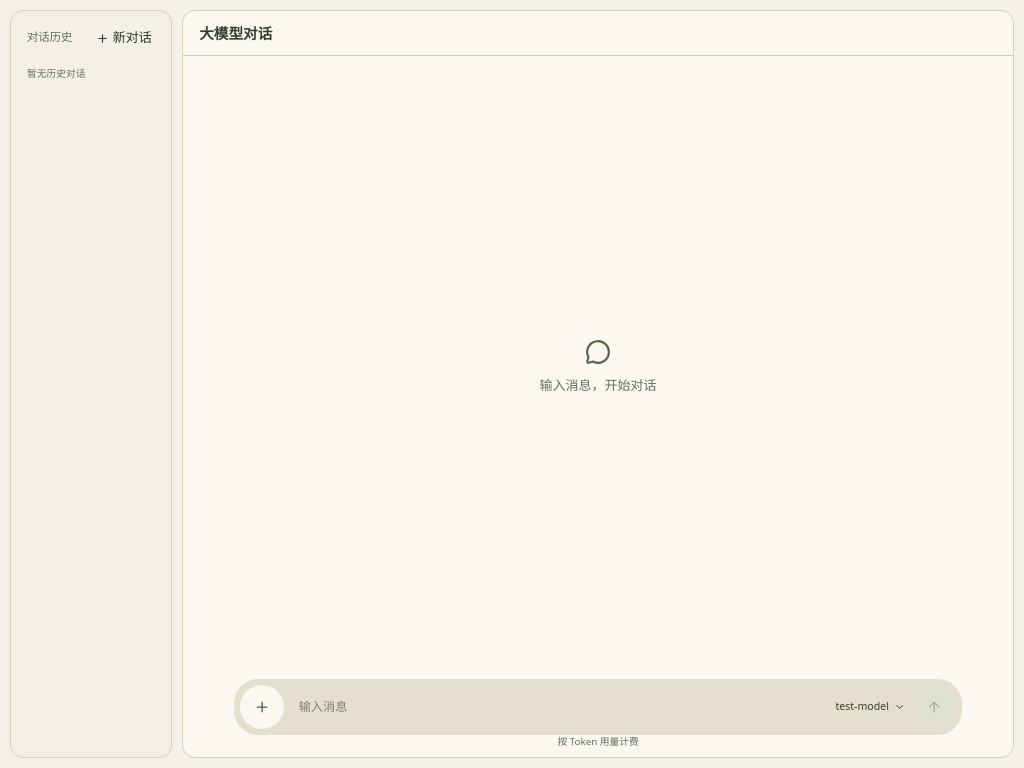
Test case: reveals streamed replies gradually even when the entire remainder arrives at once
Later steps or results of the test are not shown.
Type "你好" into the text box labelled "消息".
click(557, 707); type("你好")  # box top-left (287, 685), bottom-right (827, 729)
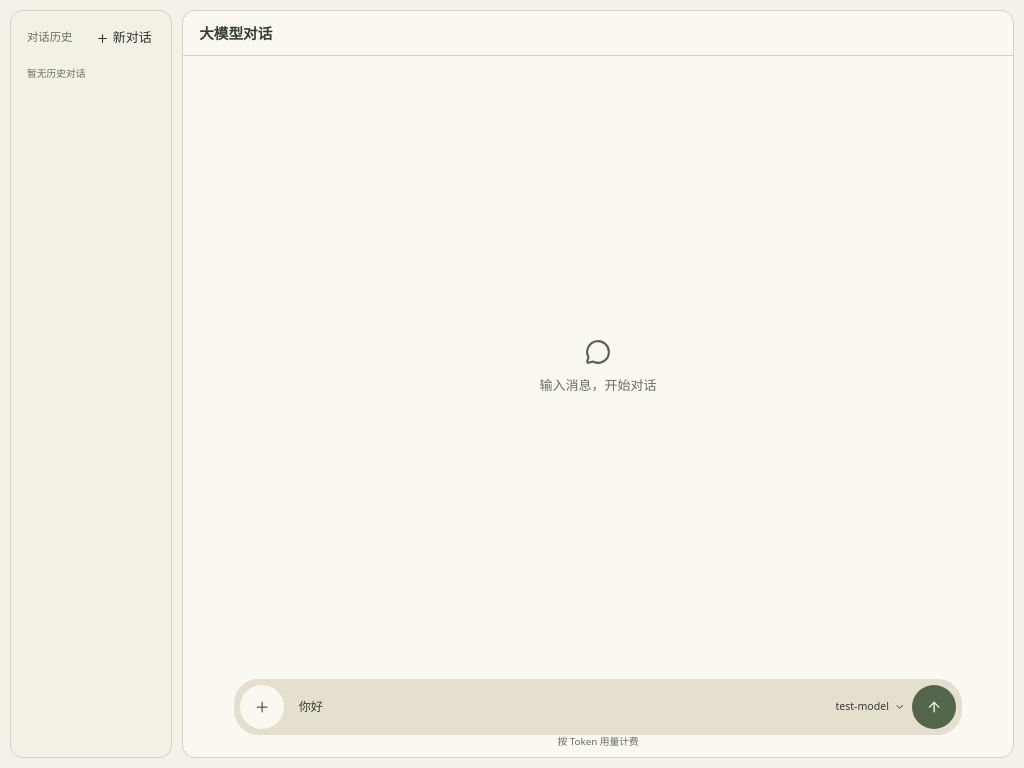
Click the button named "发送消息".
click(934, 707)  # box top-left (912, 685), bottom-right (956, 729)
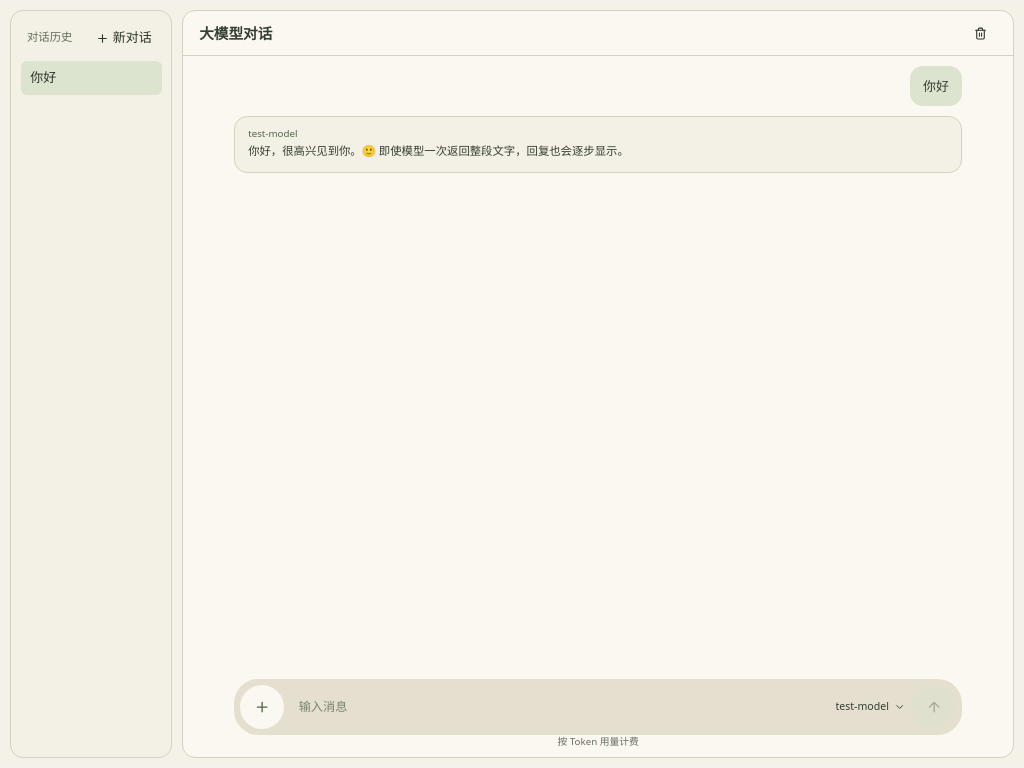
Expected: the text "你好，很高兴见到你。🙂 即使模型一次返回整段文字，回复也会逐步显示。" is shown, top-left (248, 143), bottom-right (629, 158)
Click the button "新对话".
click(124, 37)  # box top-left (87, 20), bottom-right (162, 54)
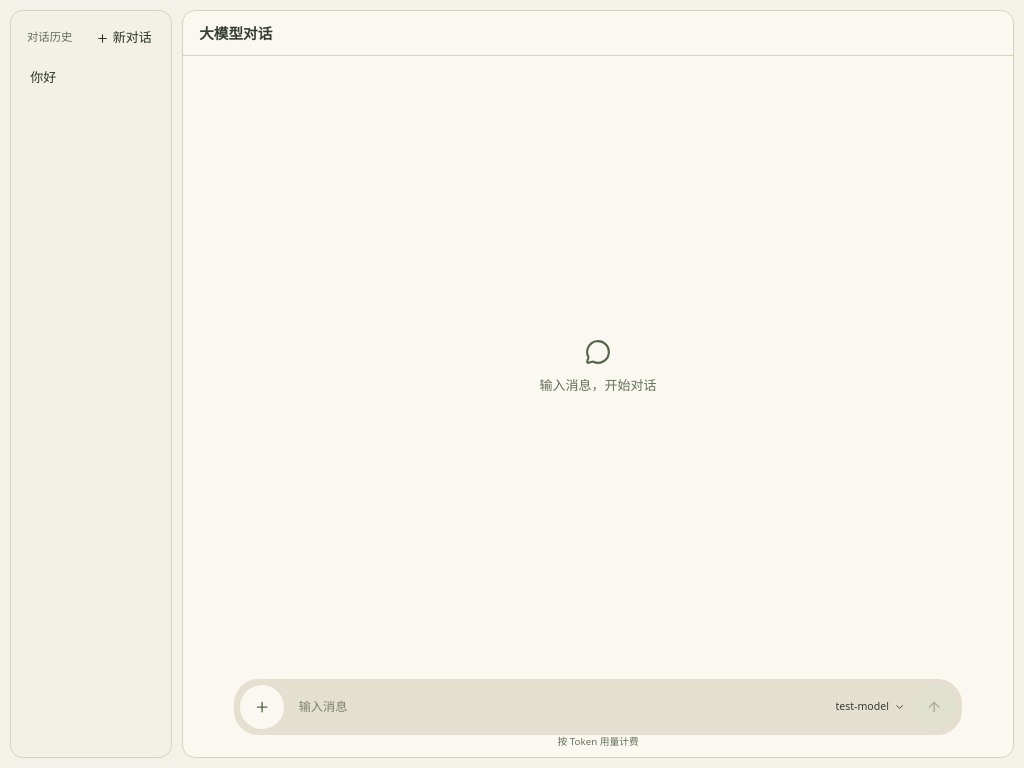
Expected: the text "你好，很高兴见到你。🙂 即使模型一次返回整段文字，回复也会逐步显示。" is gone
Click the button "你好".
click(91, 78)  # box top-left (20, 61), bottom-right (162, 95)
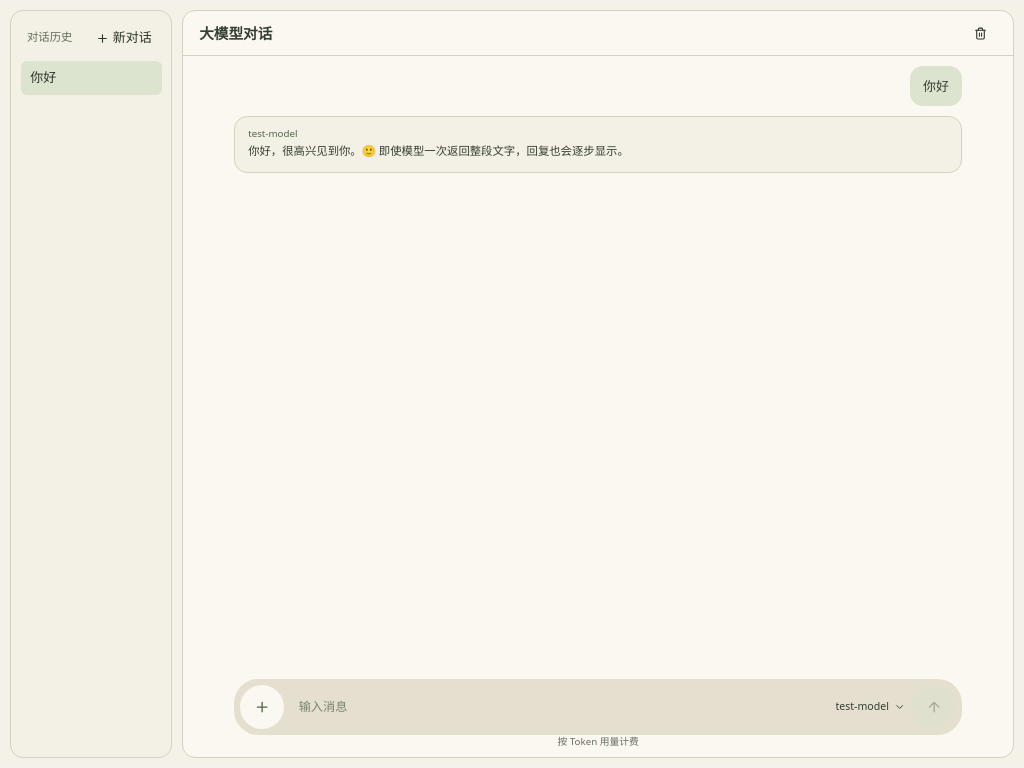
Expected: the text "你好，很高兴见到你。🙂 即使模型一次返回整段文字，回复也会逐步显示。" is shown, top-left (248, 143), bottom-right (629, 158)
